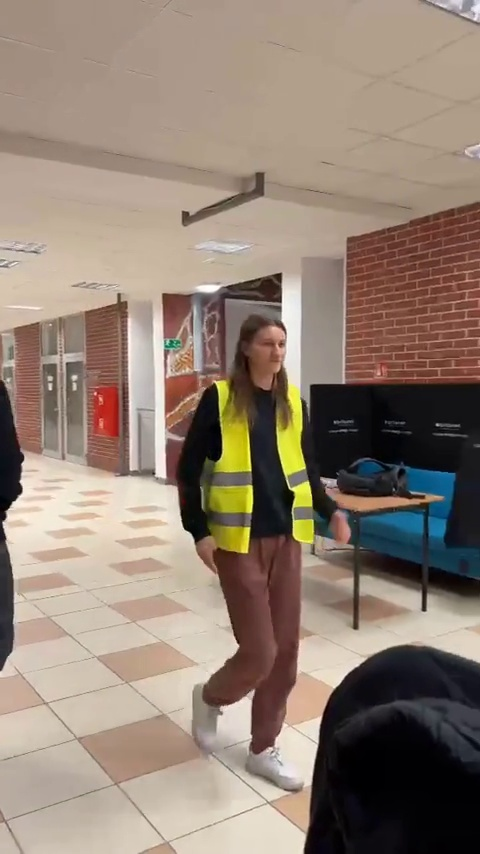vest: (183, 317, 313, 801)
